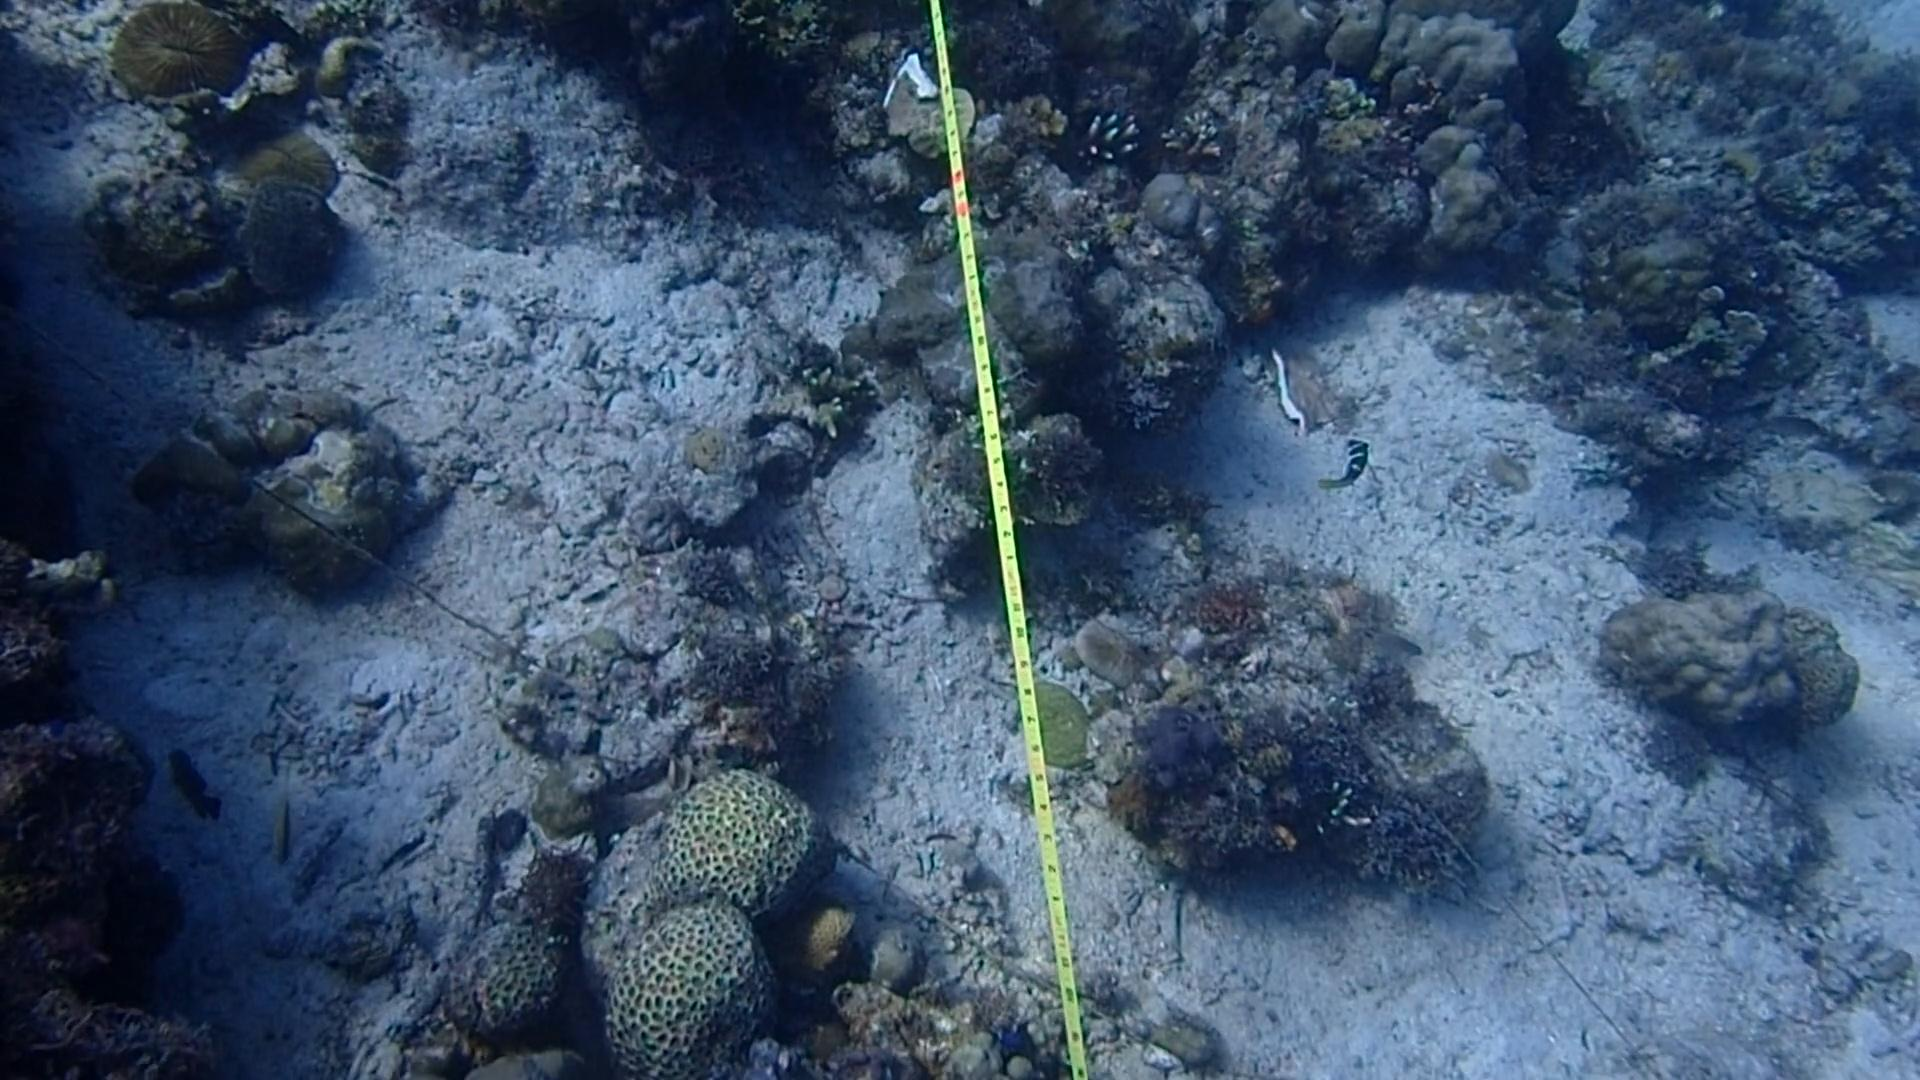Striped Fish: (1313, 426, 1379, 501)
